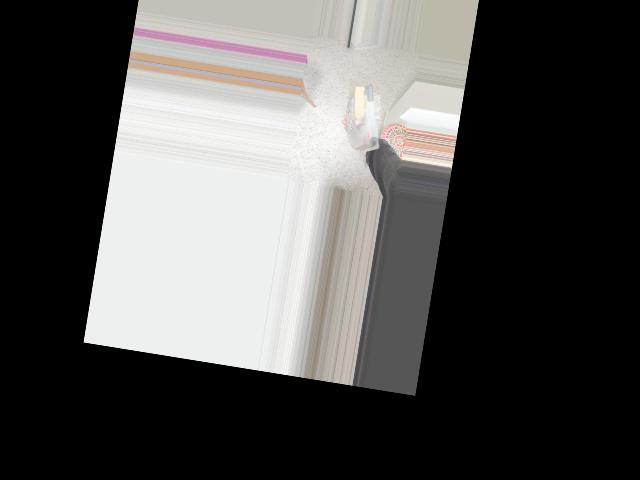cheese: (339, 81, 390, 153)
